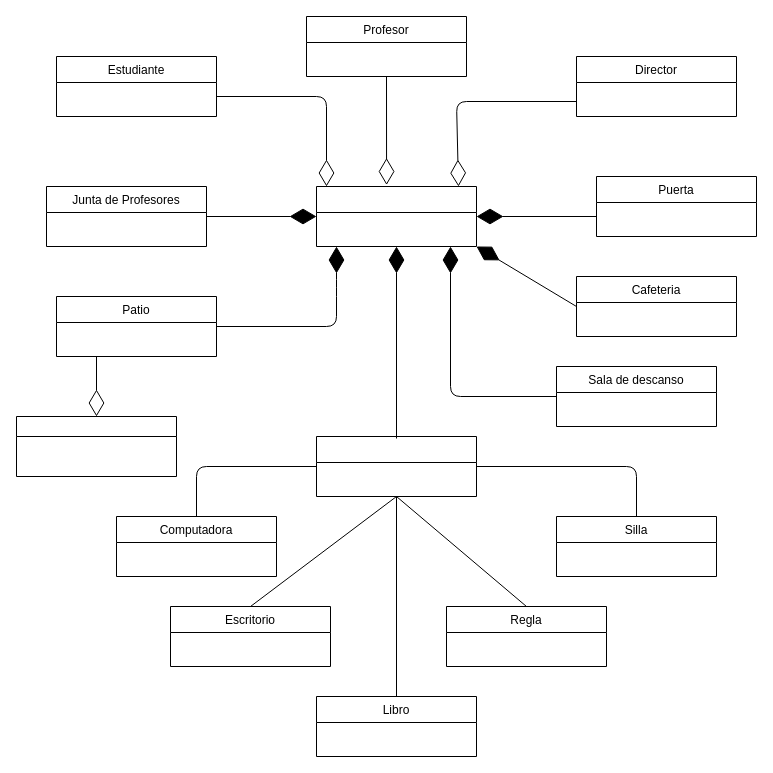
This 773x773 diagram has some shape labels left out. Here are the shapes that lost their labels. From the top down, the centre of each, then its label:
At point 396,216: "Colegio".
At point 96,446: "Columpio".
At point 396,466: "Aula".
